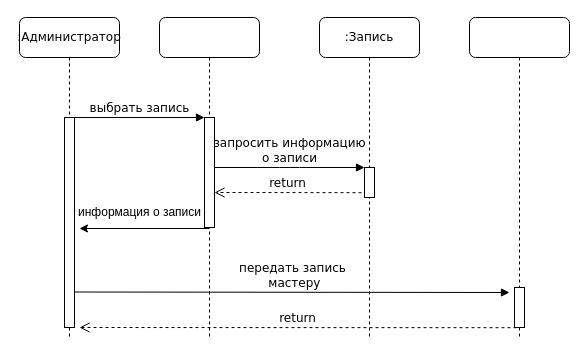
Some shapes in this 587 by 356 pixel diagram are drawn without their labels. Here are the shapes that lost their labels. From the top down, the box of each, then its label:
(158, 16, 260, 338): :Расписание
(468, 16, 570, 338): :Мастер
